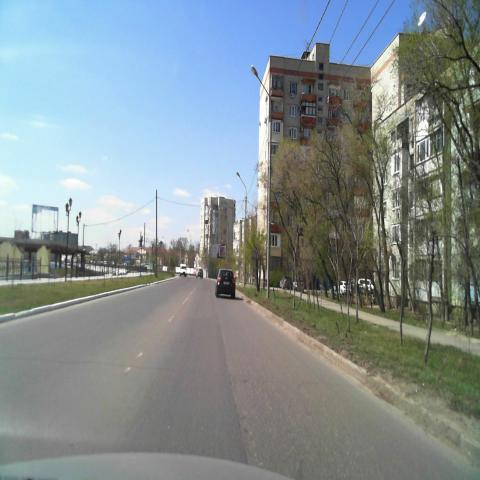1_11_1: (252, 246, 260, 259)
